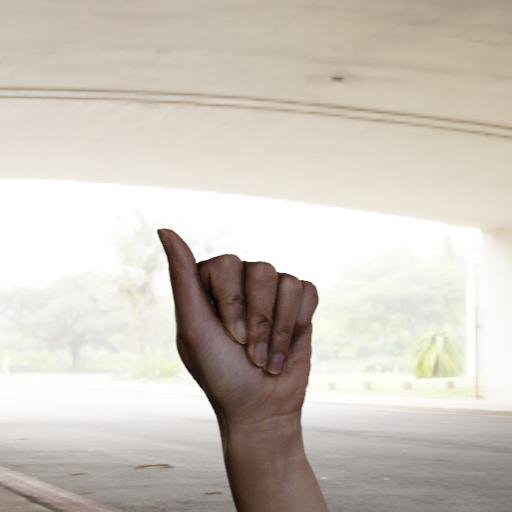A: (138, 218, 337, 457)
